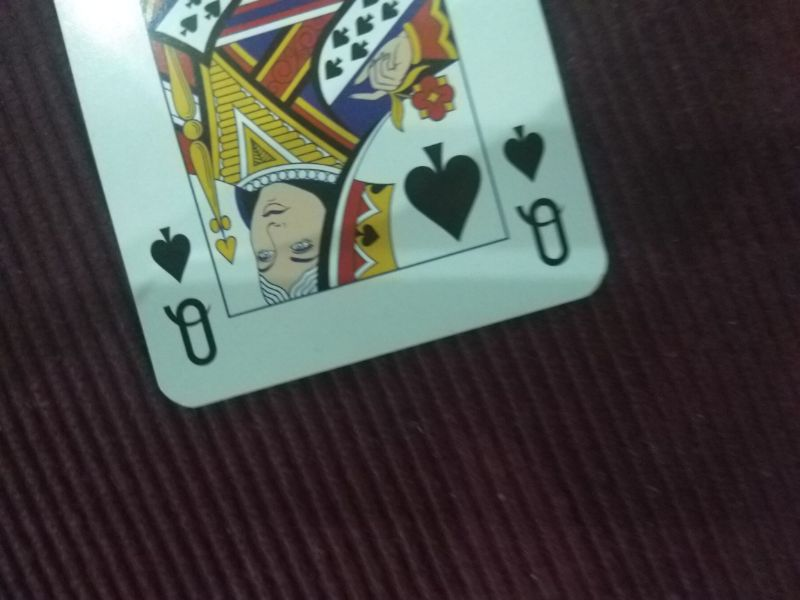Qs: (499, 122, 573, 271), (147, 224, 223, 369)
